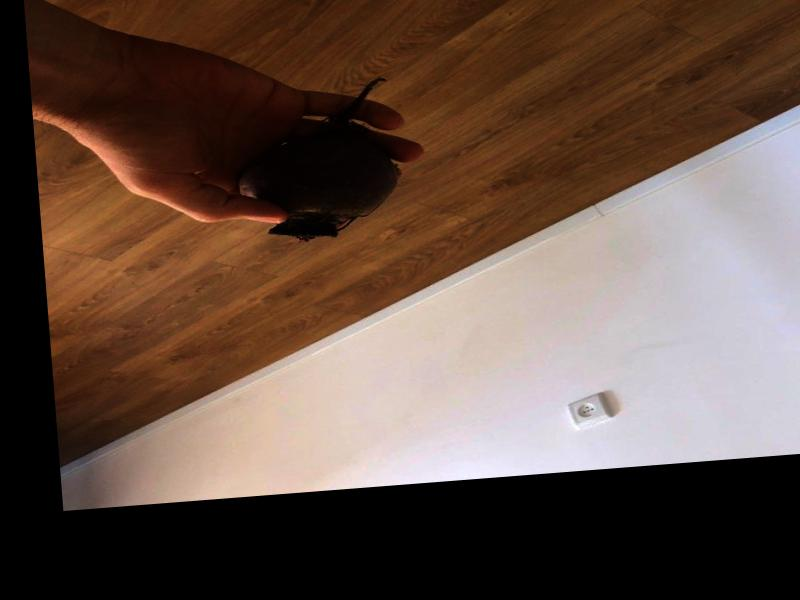Beet: (231, 76, 405, 242)
